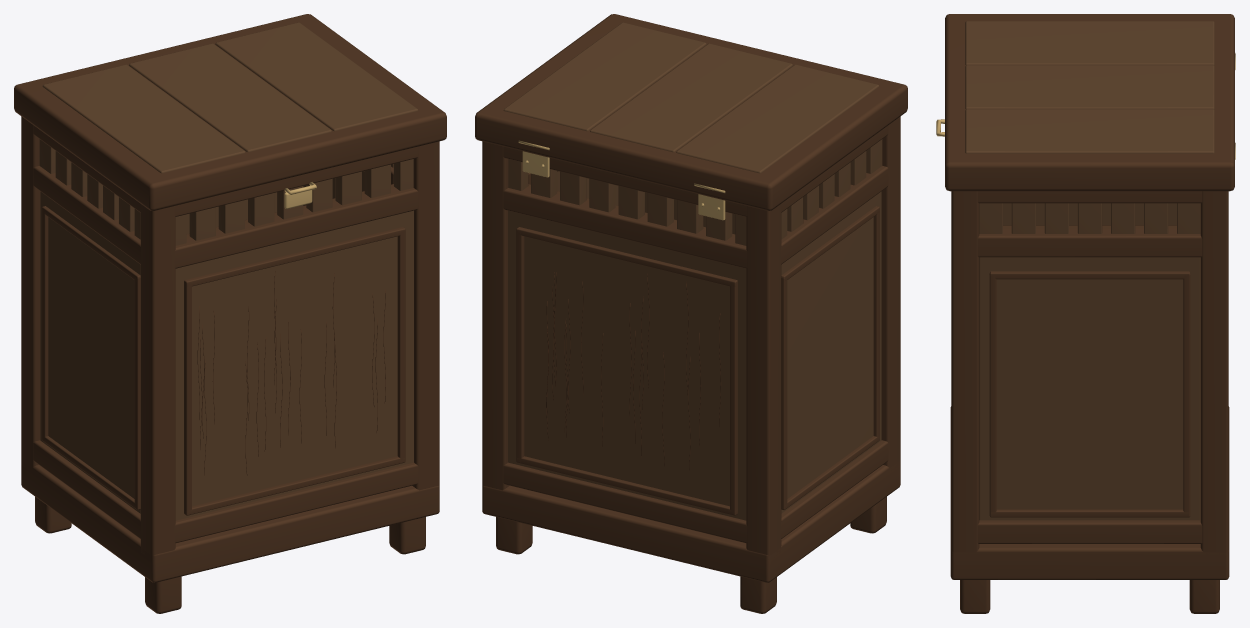
The model's file is rpg-mansion-lidded-laundry-box-01.glb.
The picture shows the model from 3 angles, left to right: view 1: azimuth 30°, elevation 25°; view 2: azimuth 150°, elevation 25°; view 3: azimuth 270°, elevation 25°; orthographic projection. The views are drawn at different scales.
Parts seen in each view (by area): view 1: Recessed long panel, Closed lid, Recessed side panel, Base plinth, Upright corner stile, Lid inset walnut board, Lid inset walnut board.002, Lid inset walnut board.001, Upright corner stile.002, Upright corner stile.001, Long framing rail.001, Long framing rail (+22 smaller); view 2: Recessed long panel.001, Closed lid, Recessed side panel, Base plinth, Upright corner stile.001, Lid inset walnut board, Lid inset walnut board.002, Lid inset walnut board.001, Upright corner stile.003, Upright corner stile, Long framing rail.004, Long framing rail.003 (+22 smaller); view 3: Recessed side panel.001, Closed lid, Lid inset walnut board, Lid inset walnut board.001, Lid inset walnut board.002, Upright corner stile.002, Upright corner stile.003, Base plinth, Side framing rail.004, Side framing rail.003, Side framing rail.005, Side panel moulding.004 (+13 smaller).
Part boxes in pixels (x1,y1,x2,y2): Recessed long panel: [175, 210, 413, 520]; Closed lid: [14, 14, 446, 210]; Recessed side panel: [40, 191, 140, 513]; Base plinth: [21, 462, 439, 582]; Upright corner stile: [140, 204, 175, 559]; Lid inset walnut board: [42, 64, 245, 173]; Lid inset walnut board.002: [215, 22, 418, 131]; Lid inset walnut board.001: [129, 43, 331, 152]; Upright corner stile.002: [412, 141, 439, 490]; Upright corner stile.001: [21, 116, 40, 472]; Long framing rail.001: [174, 184, 418, 268]; Long framing rail: [174, 462, 418, 542]; Recessed long panel.001: [508, 210, 746, 520]; Closed lid: [475, 14, 907, 210]; Recessed side panel: [781, 191, 881, 513]; Base plinth: [482, 460, 900, 582]; Upright corner stile.001: [746, 204, 781, 559]; Lid inset walnut board: [676, 64, 879, 173]; Lid inset walnut board.002: [503, 22, 706, 131]; Lid inset walnut board.001: [590, 43, 792, 152]; Upright corner stile.003: [482, 141, 509, 490]; Upright corner stile: [881, 116, 900, 471]; Long framing rail.004: [503, 184, 747, 268]; Long framing rail.003: [503, 462, 747, 542]; Recessed side panel.001: [979, 257, 1200, 520]; Closed lid: [945, 14, 1234, 191]; Lid inset walnut board: [965, 21, 1214, 65]; Lid inset walnut board.001: [965, 65, 1214, 109]; Lid inset walnut board.002: [965, 109, 1214, 153]; Upright corner stile.002: [951, 191, 979, 556]; Upright corner stile.003: [1200, 191, 1228, 556]; Base plinth: [950, 406, 1229, 579]; Side framing rail.004: [977, 225, 1202, 257]; Side framing rail.003: [977, 520, 1202, 543]; Side framing rail.005: [977, 191, 1202, 203]; Side panel moulding.004: [989, 273, 996, 516].
Size of the model in its own units: 0.6 by 0.85 by 0.5.
